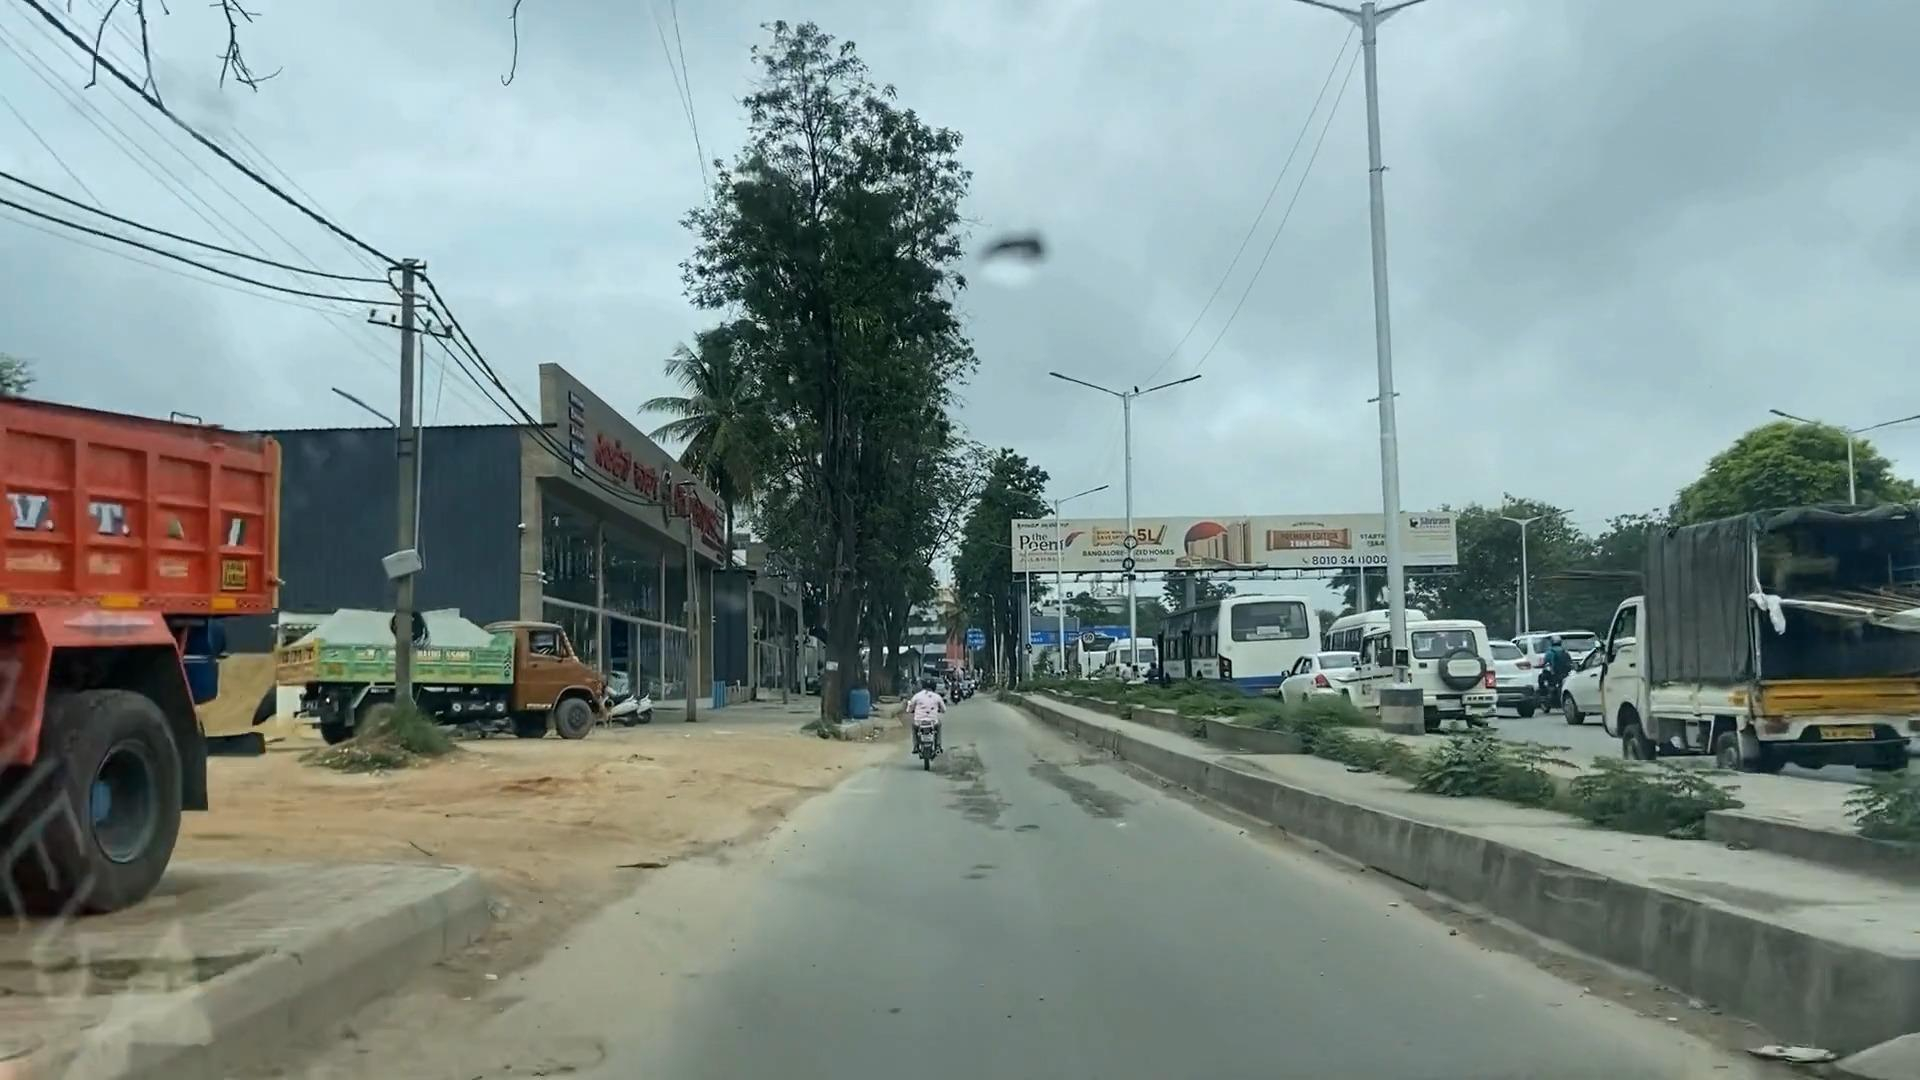RoadDamages: (185, 1004, 633, 1080)
